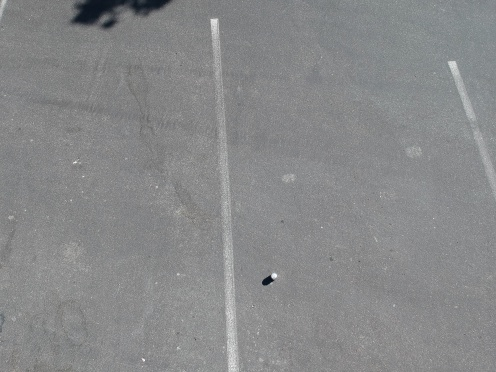can: (268, 271, 280, 282)
